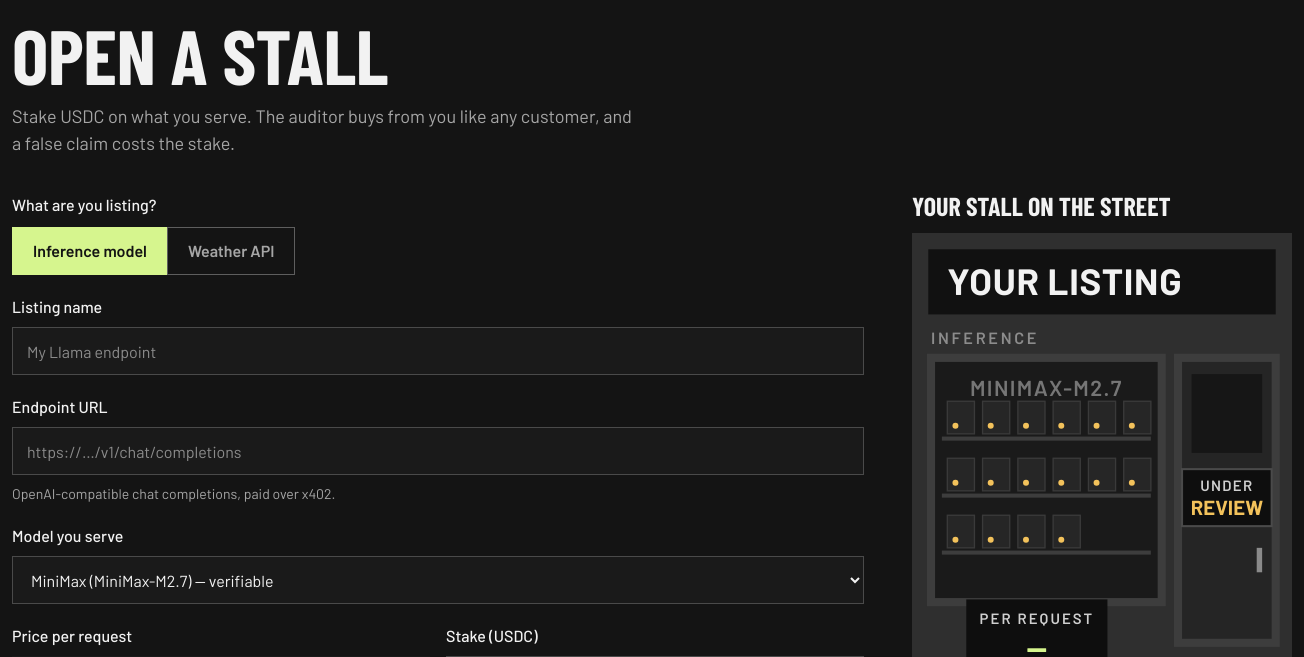
Test: switches the introduction between automatic inference audits and API community review
expect the text "The auditor buys from you like any customer" is shown: met, box [12,105,632,154]
Click the radio button labelled "Weather API". click: (232, 251)
box: [168,227,295,275]
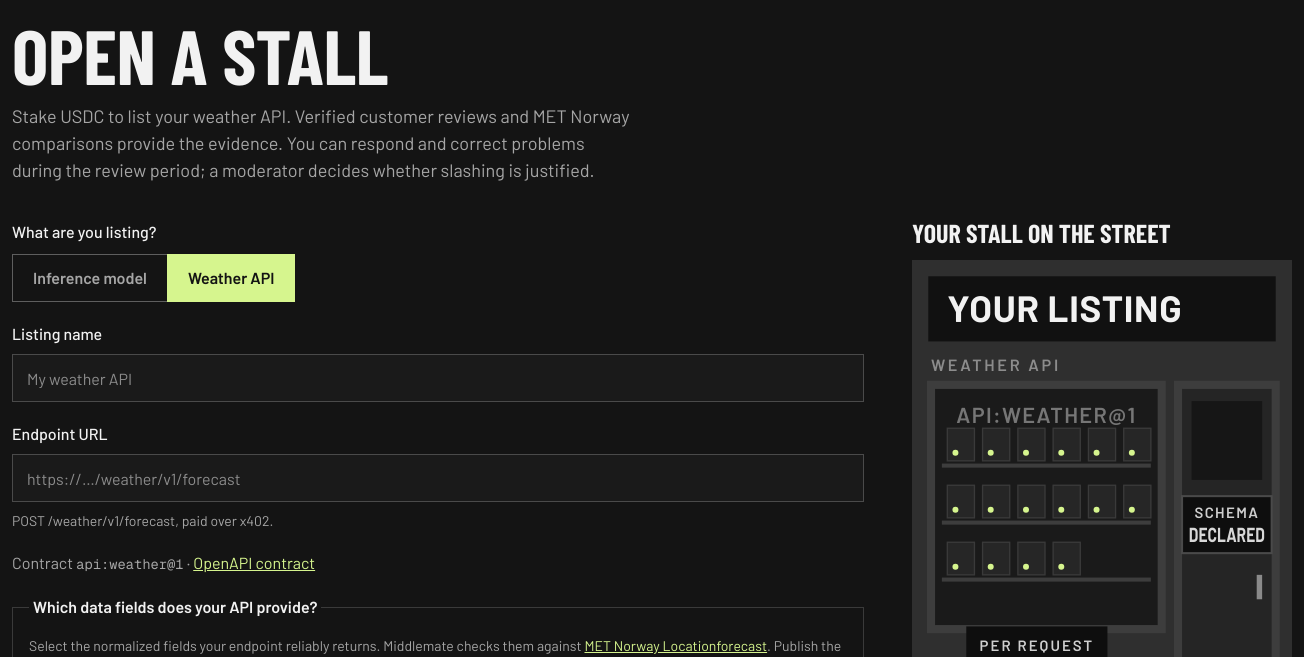
expect the text "The auditor buys from you like any customer" is gone: met
expect the text "You can respond and correct problems during the review period" is shown: met, box [12,105,630,181]
Click the radio button labelled "Inference model". click: (90, 278)
box: [12,254,168,302]
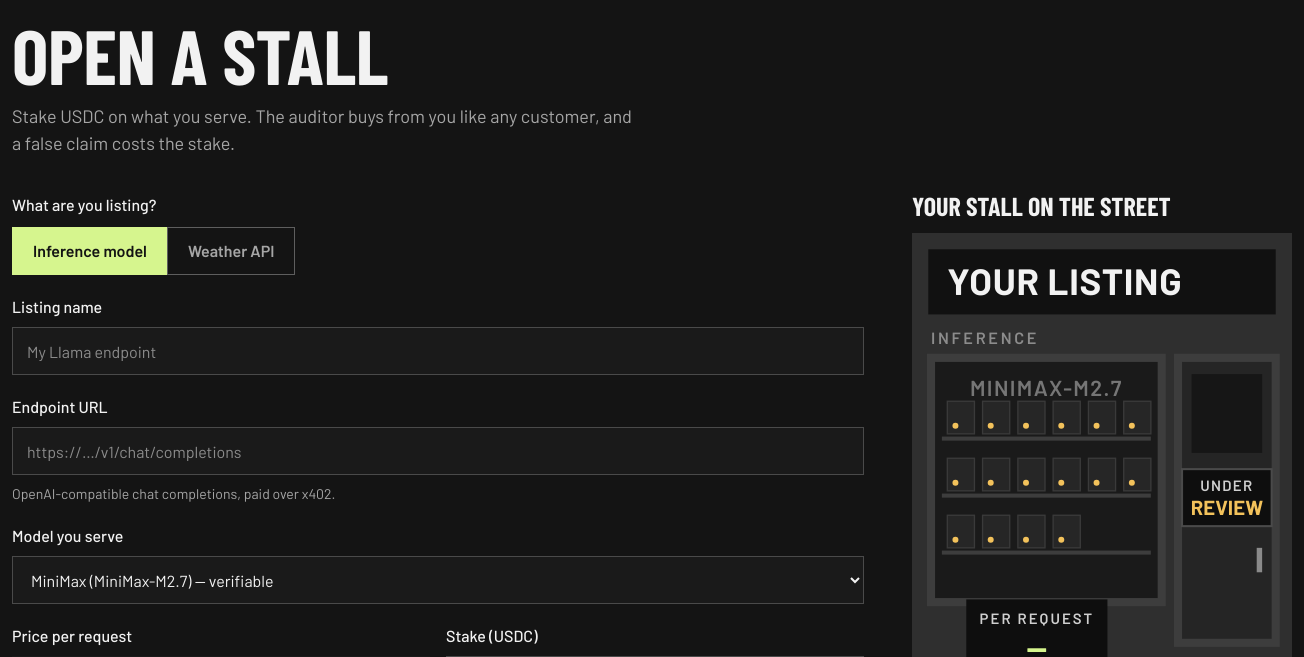
expect the text "The auditor buys from you like any customer" is shown: met, box [12,105,632,154]
